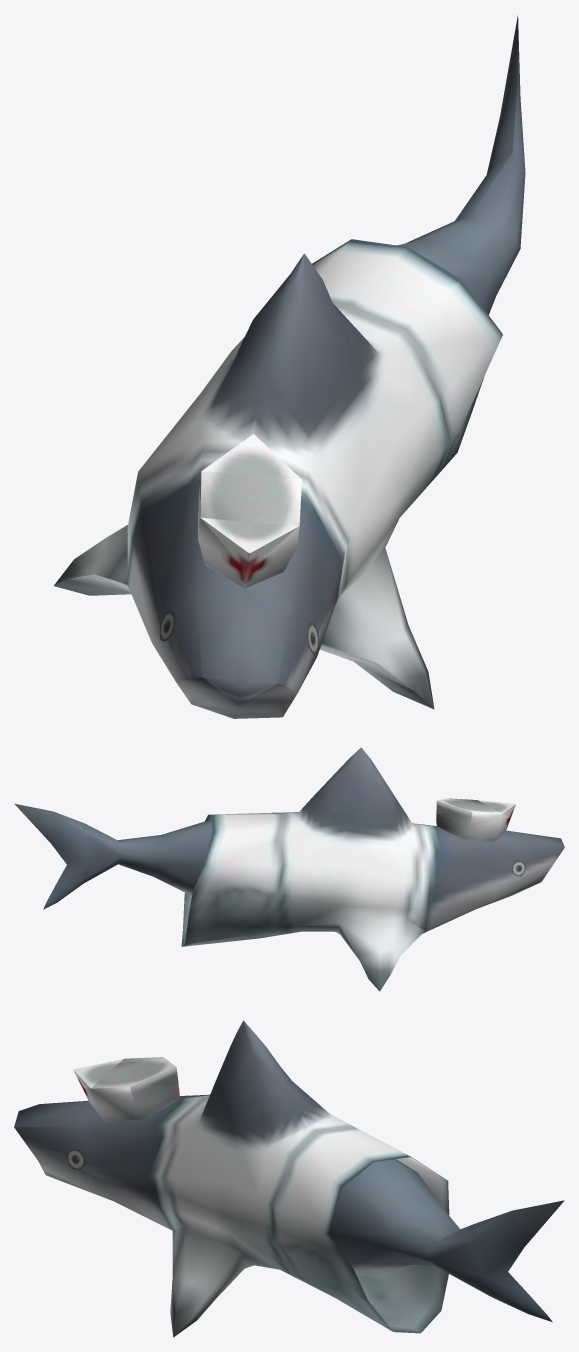
File: genus_16.glb
3 renders of one model, top to bottom at view 1: azimuth 30°, elevation 25°; view 2: azimuth 150°, elevation 25°; view 3: azimuth 270°, elevation 25°, orthographic. The views are drawn at different scales.
Visible parts, largest first — view 1: fish_0, fish_4; view 2: fish_0, fish_4; view 3: fish_0, fish_4.
Boxes of the visible parts, x1=… form: fish_0: x1=54, y1=15, x2=525, y2=718; fish_4: x1=198, y1=434, x2=301, y2=588; fish_0: x1=14, y1=747, x2=564, y2=991; fish_4: x1=436, y1=798, x2=515, y2=841; fish_0: x1=14, y1=1020, x2=564, y2=1337; fish_4: x1=73, y1=1057, x2=179, y2=1121.
Bounding box in the file's own units: 1.28 × 0.7524 × 1.29.
3 materials, 3 textured.
